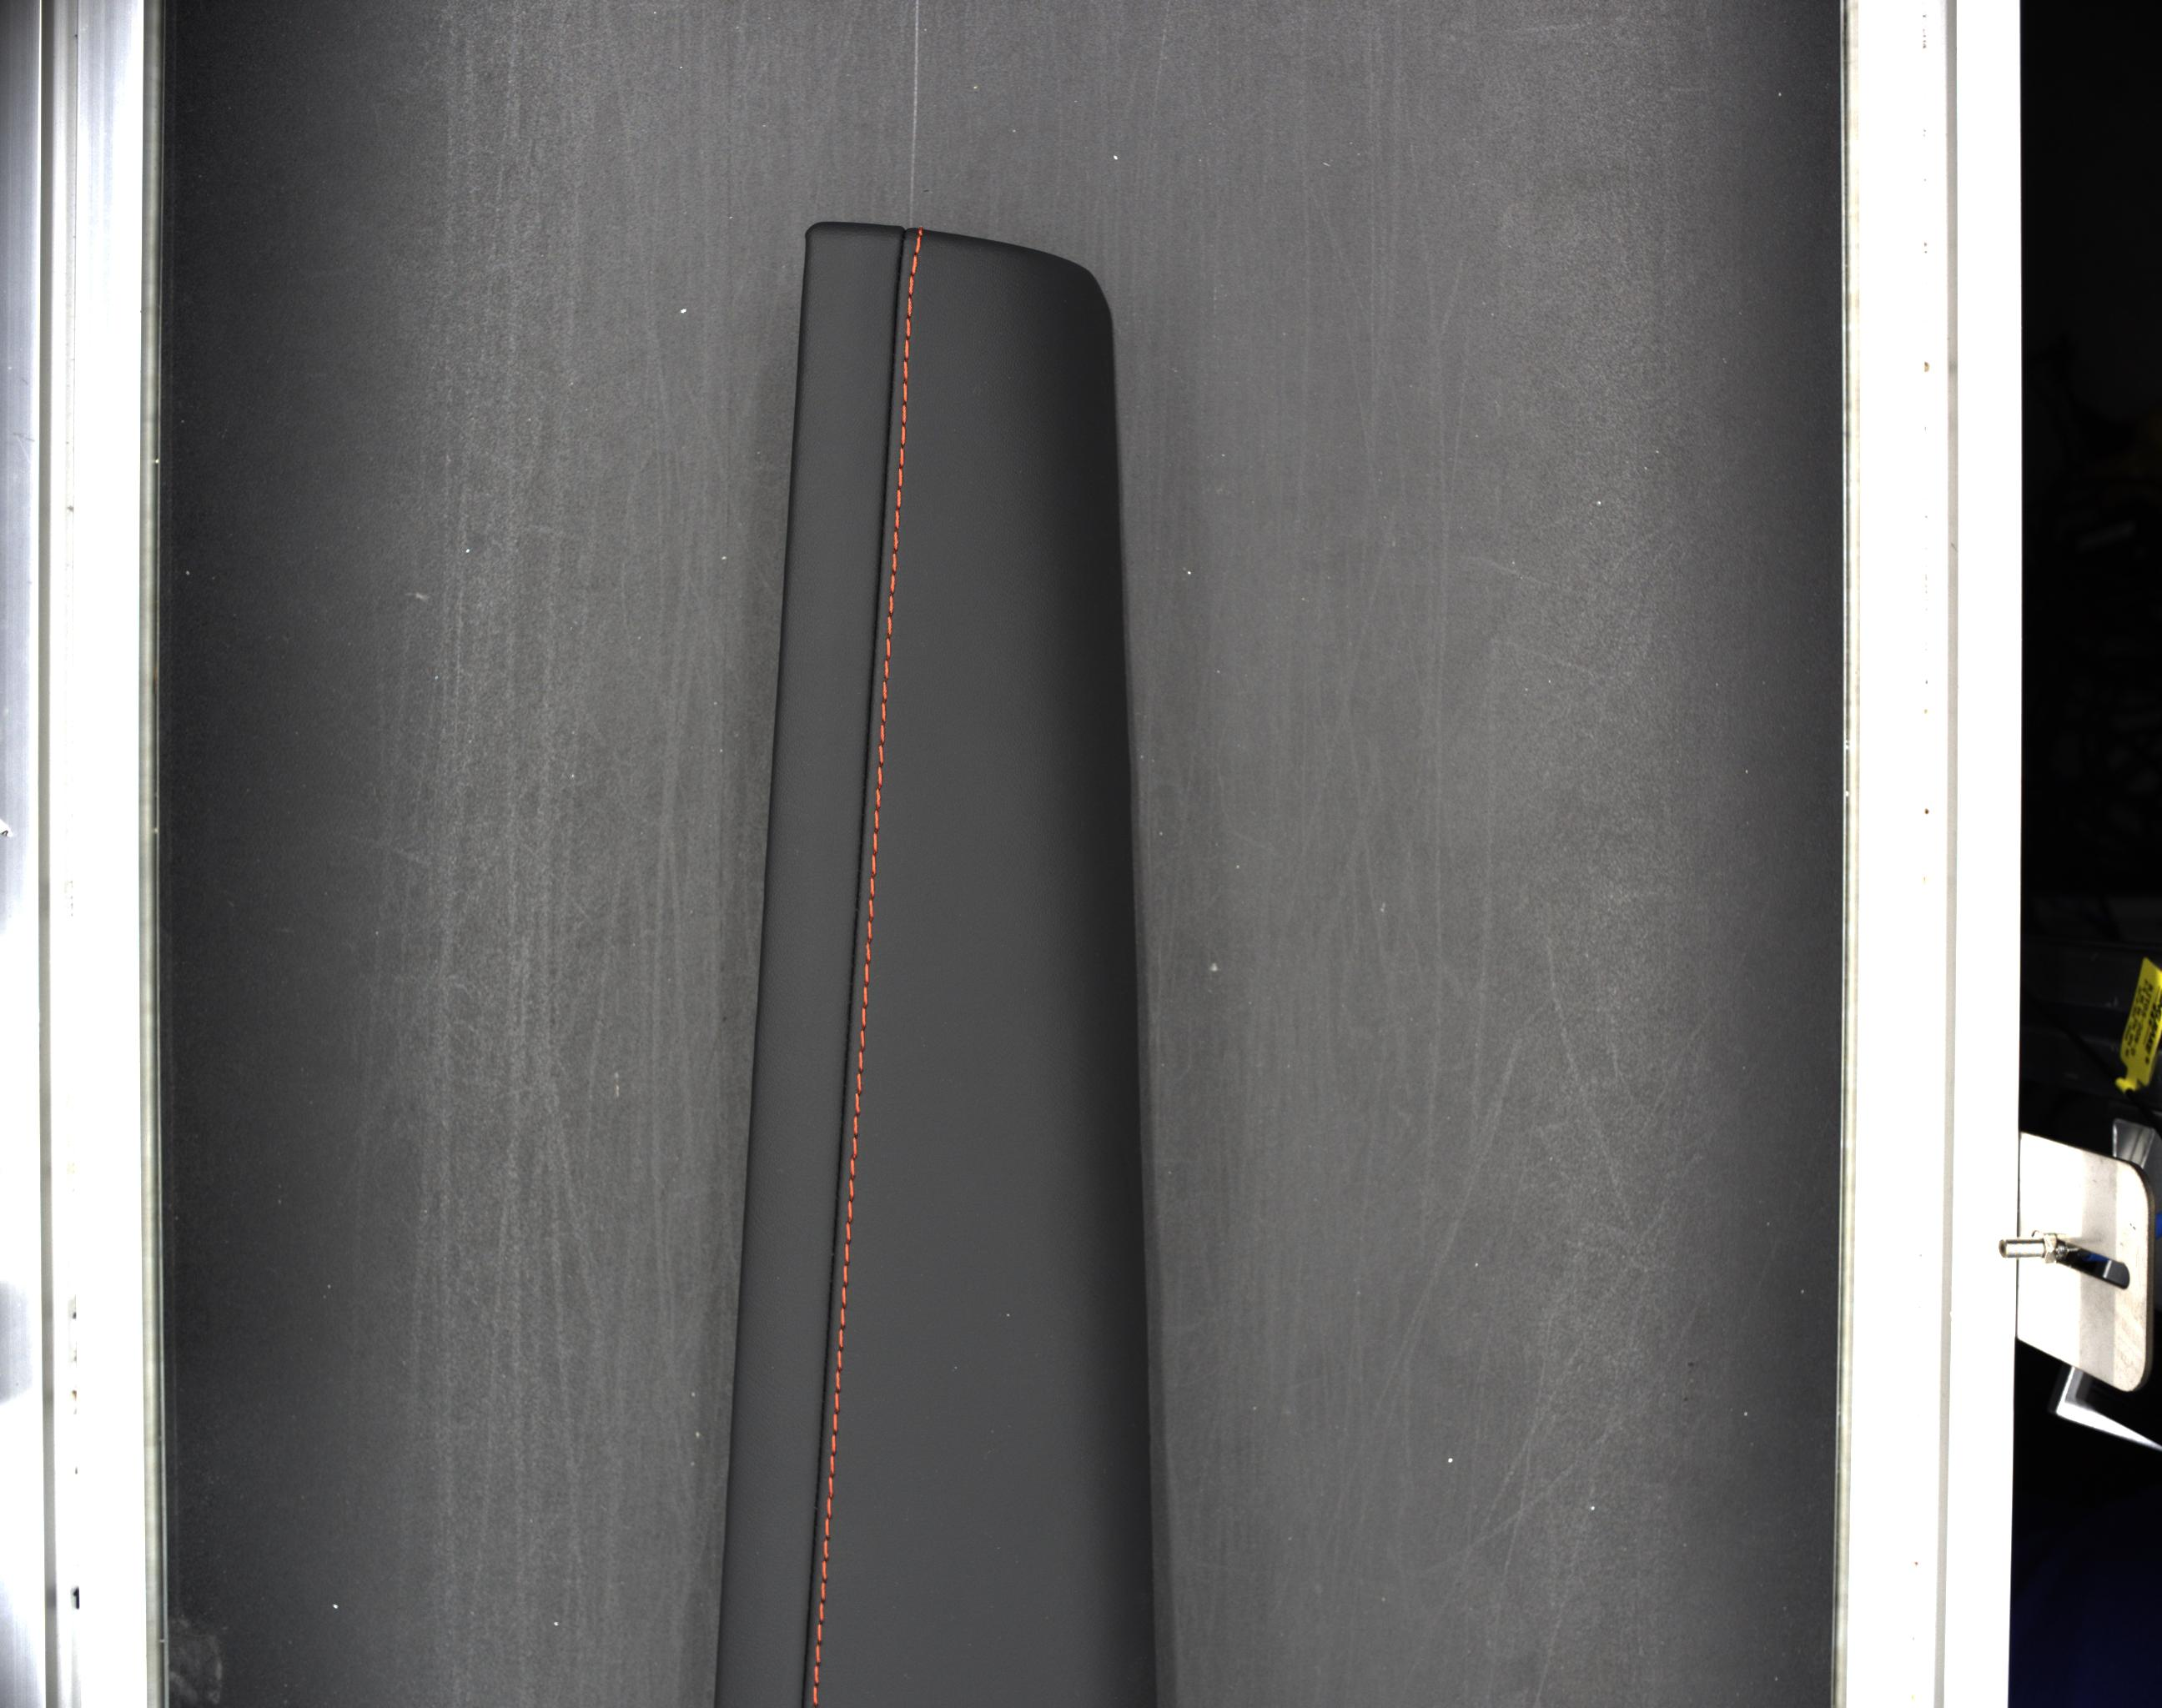vline: (811, 1664, 821, 1685), (832, 1392, 842, 1411), (874, 788, 883, 811), (870, 830, 879, 853), (867, 897, 876, 920), (862, 964, 870, 987), (818, 1580, 827, 1603), (909, 253, 918, 274), (902, 339, 911, 360), (872, 811, 881, 832), (846, 1201, 855, 1222), (841, 1266, 849, 1287), (830, 1413, 839, 1434), (813, 1643, 821, 1664), (870, 853, 877, 878), (913, 232, 921, 251), (884, 616, 893, 635), (883, 660, 891, 679), (855, 1073, 863, 1092), (851, 1137, 860, 1157), (821, 1539, 830, 1559), (907, 272, 914, 295), (906, 295, 913, 318), (902, 360, 909, 383), (888, 593, 895, 616), (865, 941, 872, 964), (835, 1369, 842, 1392), (823, 1517, 830, 1539), (821, 1559, 828, 1582), (877, 725, 886, 743), (900, 425, 907, 446), (898, 448, 906, 469), (895, 488, 902, 509), (884, 637, 891, 658), (877, 744, 884, 765), (876, 767, 883, 788), (860, 1008, 867, 1029), (853, 1094, 860, 1115), (848, 1178, 855, 1199), (839, 1306, 846, 1327), (837, 1329, 844, 1350), (828, 1455, 835, 1476), (811, 1685, 818, 1706), (835, 1352, 844, 1367), (906, 318, 913, 337), (893, 532, 900, 551), (890, 574, 897, 593), (881, 681, 888, 700), (879, 702, 886, 721), (869, 878, 876, 897), (865, 920, 872, 939), (844, 1224, 851, 1243), (841, 1287, 848, 1306), (830, 1436, 837, 1455), (818, 1601, 825, 1620), (816, 1624, 823, 1643), (902, 384, 909, 402), (900, 404, 907, 421), (897, 470, 904, 488), (893, 511, 900, 528), (862, 988, 869, 1006), (848, 1159, 855, 1176), (860, 1029, 865, 1051), (853, 1115, 858, 1137), (891, 553, 897, 574), (858, 1051, 863, 1073), (844, 1245, 849, 1266), (828, 1476, 834, 1496), (827, 1496, 832, 1515)
